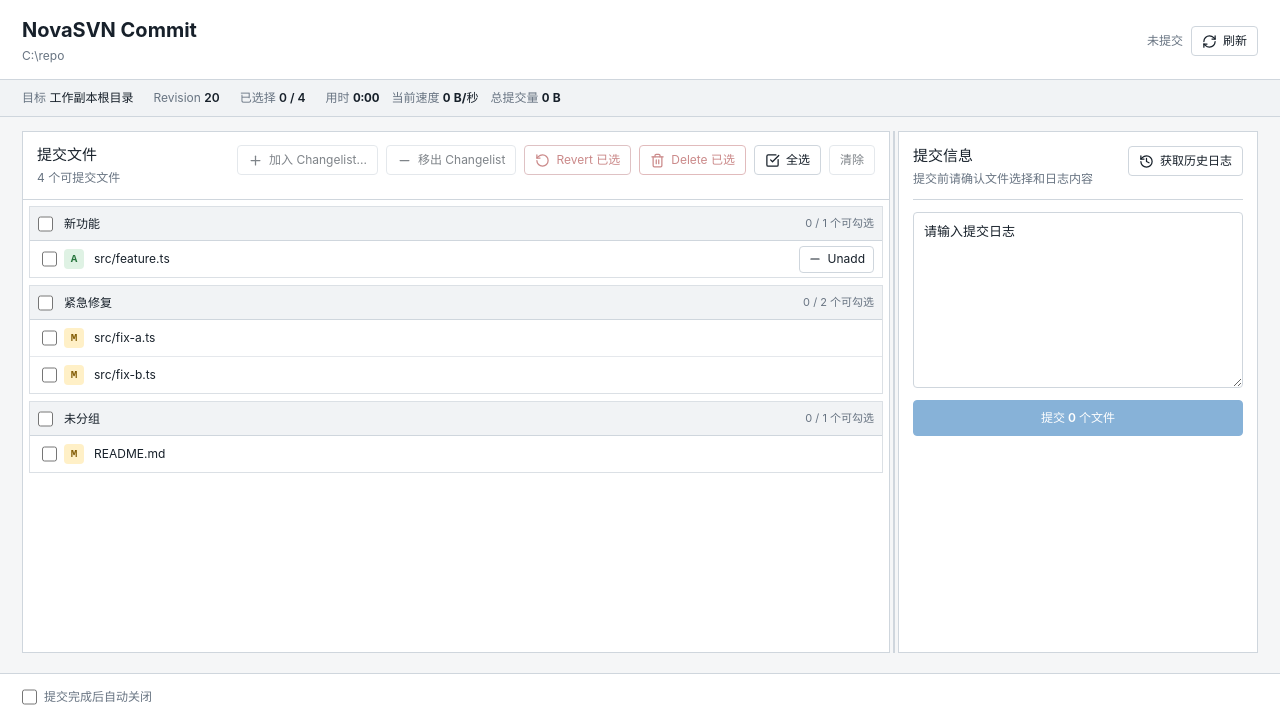
Test: StandaloneCommitWindow › 按 Changelist 分组文件并支持分组勾选
Expected: the element named "Changelist 新功能" is shown, [29,206,883,278]
Expected: the element named "Changelist 未分组" is shown, [29,401,883,473]
Step 1. Click the checkbox named "选择 Changelist 紧急修复" → (46, 303), box [38,288,53,318]
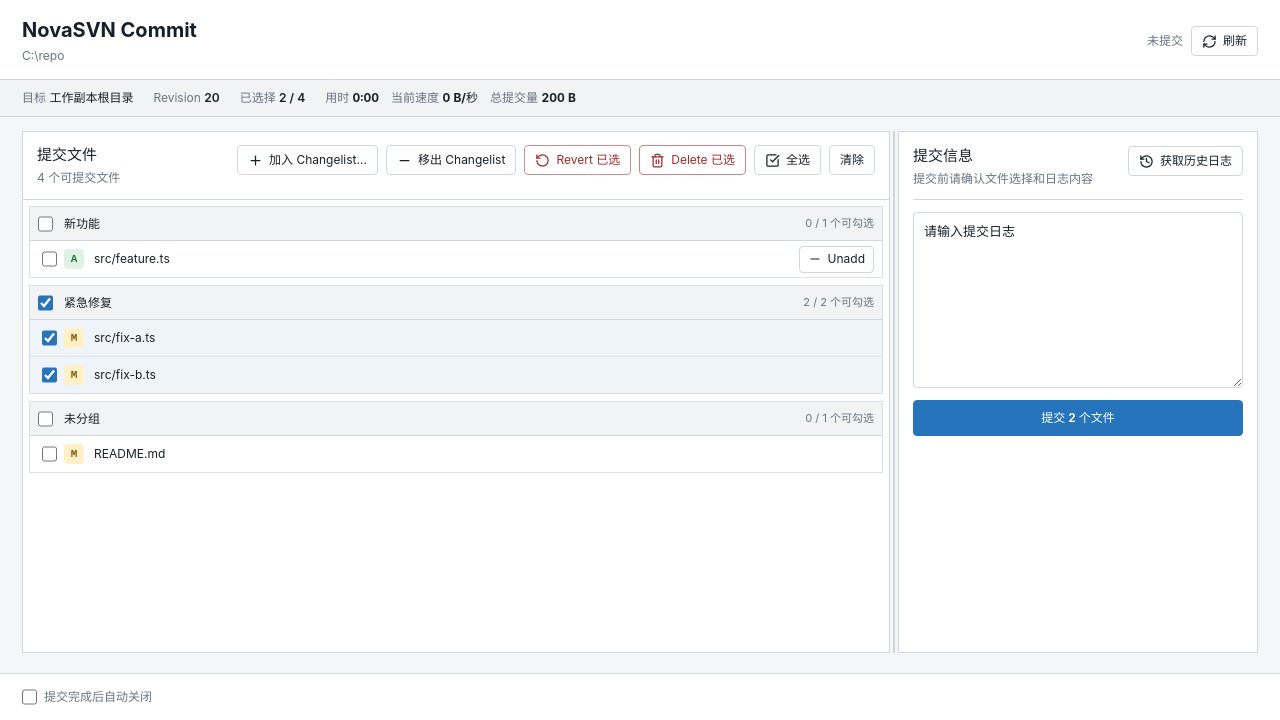
Expected: the checkbox named "src/fix-a.ts" is checked, [42,323,57,353]
Expected: the checkbox named "src/fix-b.ts" is checked, [42,360,57,390]
Expected: the button "提交 2 个文件" is shown, [913,400,1243,436]
